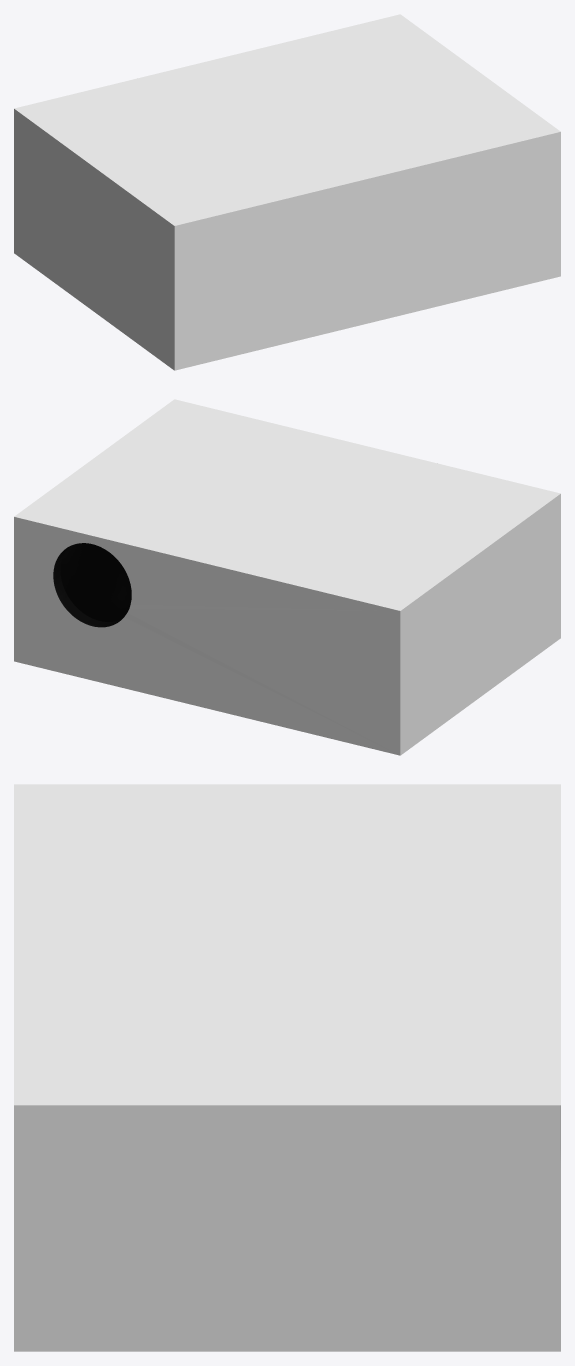
File: projector.dae
3 views of the same model, one above another, from view 1: azimuth 30°, elevation 25°; view 2: azimuth 150°, elevation 25°; view 3: azimuth 270°, elevation 25° (orthographic). The views are drawn at different scales.
Parts seen in each view (by area): view 1: Projector; view 2: Projector; view 3: Projector.
Part boxes in pixels (bbox=[...]): Projector: bbox=[14, 14, 560, 370]; Projector: bbox=[14, 399, 560, 755]; Projector: bbox=[14, 784, 560, 1351].
Bounding box in the file's own units: 246 × 177 × 88.
Materials: 1 (1 with a texture image).
